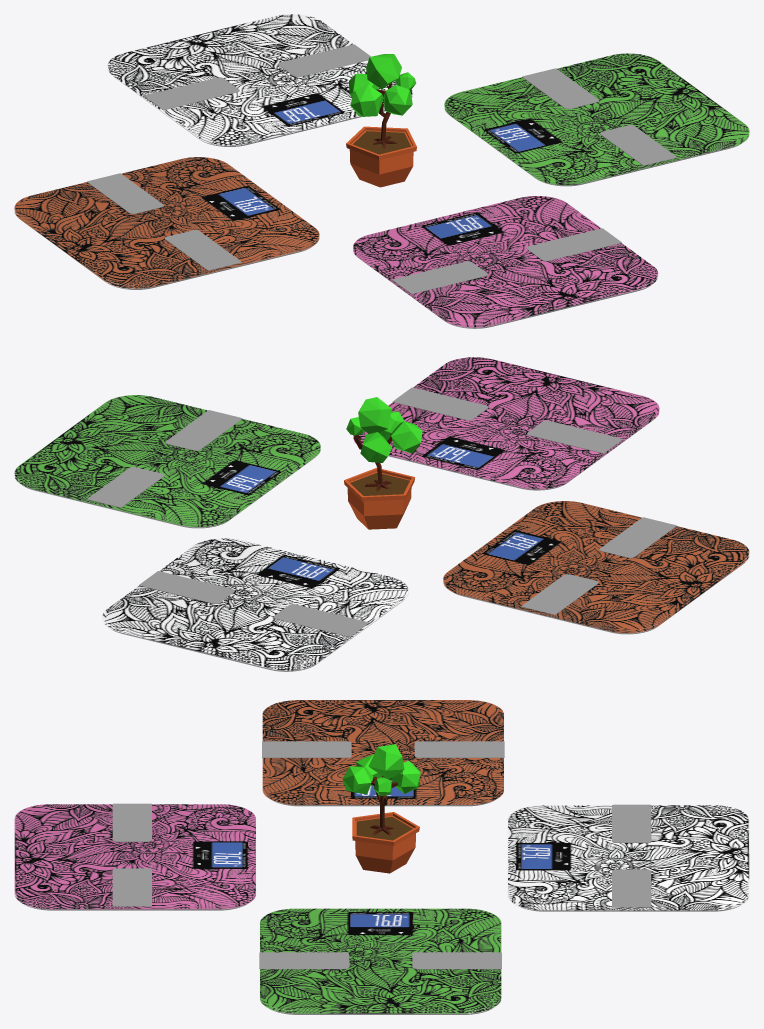
File: DIGIT PRO BMI.glb
The picture shows the model from 3 angles, top to bottom: view 1: azimuth 30°, elevation 25°; view 2: azimuth 150°, elevation 25°; view 3: azimuth 270°, elevation 25°; orthographic projection.
Parts seen in each view (by area): view 1: Digit Pro BMI.002, Digit Pro BMI.003, Digit Pro BMI, Digit Pro BMI.001, Pot; view 2: Digit Pro BMI.003, Digit Pro BMI.002, Digit Pro BMI.001, Digit Pro BMI, Pot; view 3: Digit Pro BMI, Digit Pro BMI.001, Digit Pro BMI.002, Digit Pro BMI.003, Pot.
Part boxes in pixels (bbox=[...]): Digit Pro BMI.002: bbox=[444, 53, 749, 186]; Digit Pro BMI.003: bbox=[14, 157, 319, 289]; Digit Pro BMI: bbox=[353, 196, 658, 328]; Digit Pro BMI.001: bbox=[107, 14, 412, 146]; Pot: bbox=[346, 54, 416, 187]; Digit Pro BMI.003: bbox=[443, 501, 749, 634]; Digit Pro BMI.002: bbox=[14, 395, 320, 528]; Digit Pro BMI.001: bbox=[102, 538, 408, 671]; Digit Pro BMI: bbox=[353, 357, 659, 490]; Pot: bbox=[344, 397, 422, 529]; Digit Pro BMI: bbox=[14, 803, 255, 910]; Digit Pro BMI.001: bbox=[508, 804, 749, 911]; Digit Pro BMI.002: bbox=[259, 908, 501, 1014]; Digit Pro BMI.003: bbox=[262, 700, 504, 806]; Pot: bbox=[342, 744, 420, 873].
Bounding box in the file's own units: 0.9102 × 0.1634 × 0.9102.
11 materials, 4 textured.
